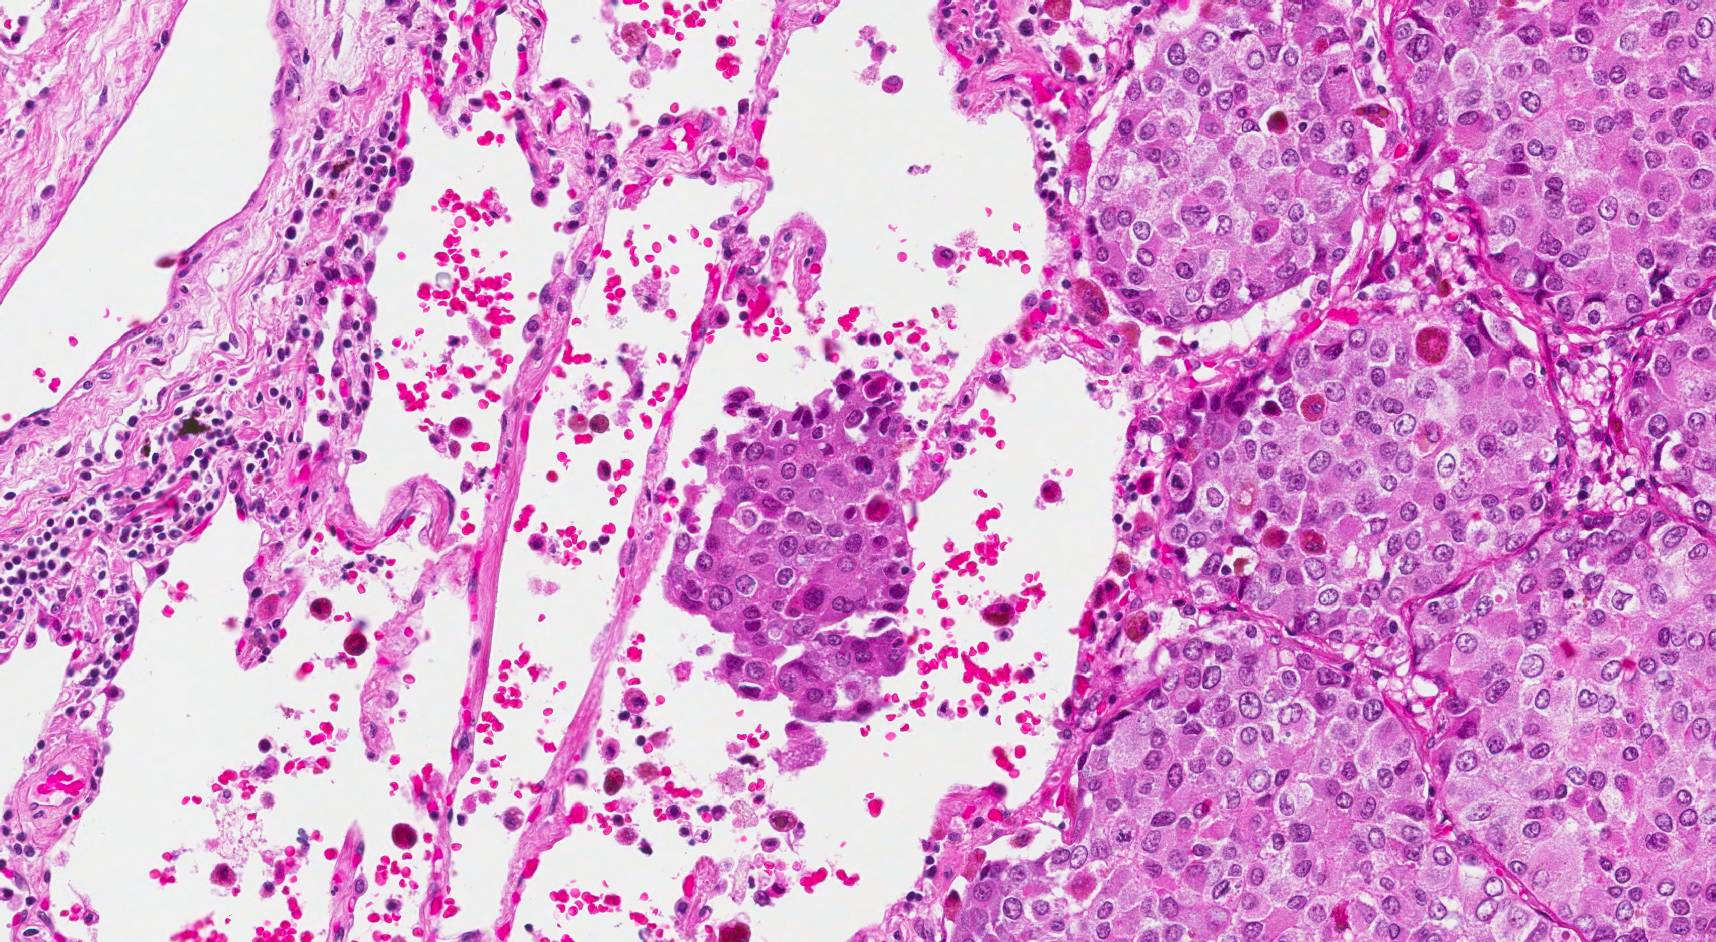stas: (661, 365, 914, 728)
